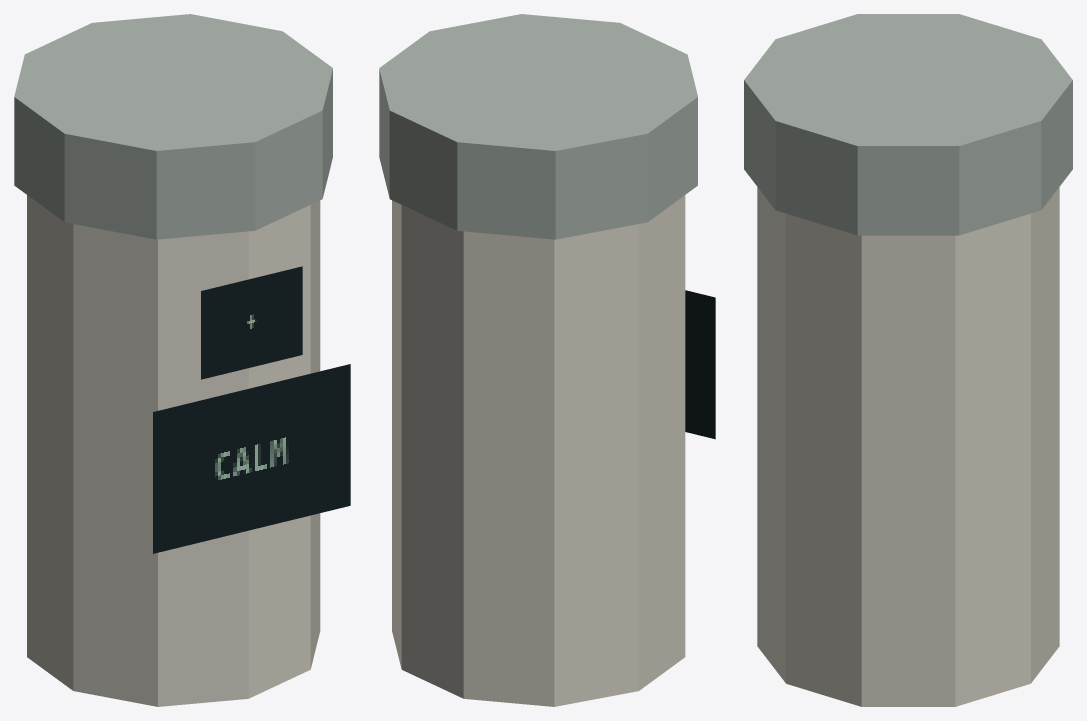
Rendered from blender_sanity_medication_2.glb.
3 renders of one model, left to right at view 1: azimuth 30°, elevation 25°; view 2: azimuth 150°, elevation 25°; view 3: azimuth 270°, elevation 25°, orthographic.
Parts seen in each view (by area): view 1: blender_sanity_medication_2; view 2: blender_sanity_medication_2; view 3: blender_sanity_medication_2.
Boxes of the visible parts, <box> form: blender_sanity_medication_2: <box>14,14,350,706</box>; blender_sanity_medication_2: <box>379,14,715,706</box>; blender_sanity_medication_2: <box>744,14,1072,706</box>.
Size of the model in its own units: 0.0476 by 0.095 by 0.05.
1 material, 1 textured.
